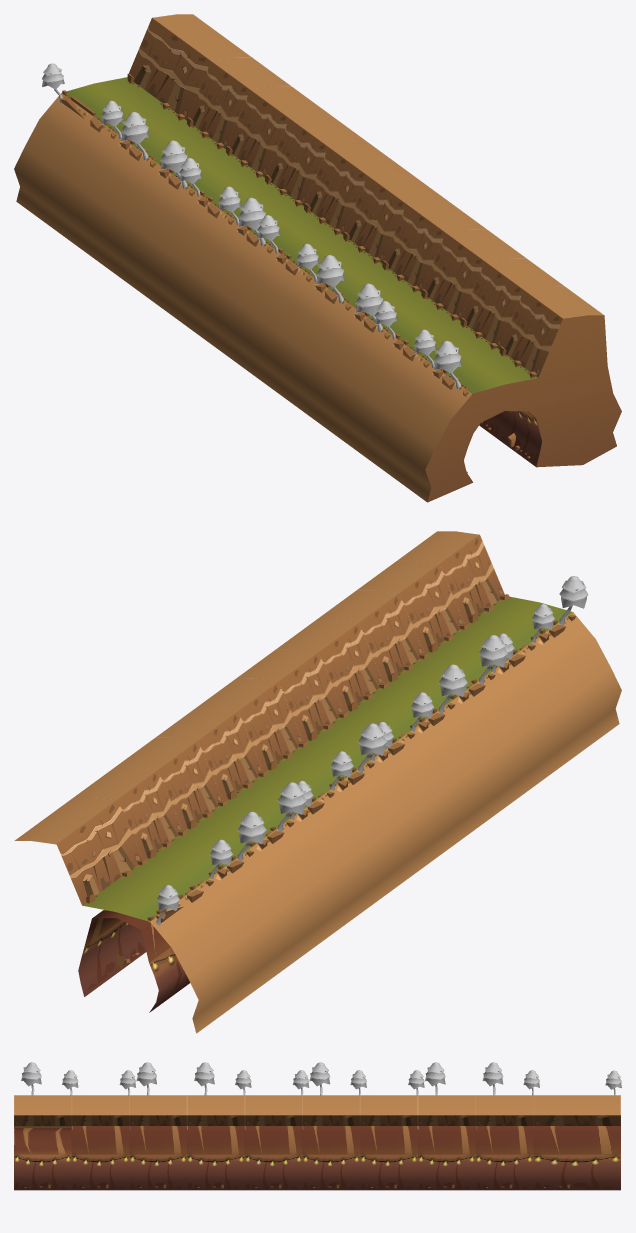
Rendered from ham.fbx.
3 renders of one model, top to bottom at view 1: azimuth 30°, elevation 25°; view 2: azimuth 150°, elevation 25°; view 3: azimuth 270°, elevation 25°, orthographic. The views are drawn at different scales.
Visible parts, largest first — view 1: pCube336; view 2: pCube336; view 3: pCube336.
Boxes of the visible parts, x1,y1,x2,y2 form: pCube336: (14, 14, 621, 502); pCube336: (14, 531, 621, 1033); pCube336: (14, 1062, 621, 1190).
Bounding box in the file's own units: 72.17 × 52.96 × 262.
